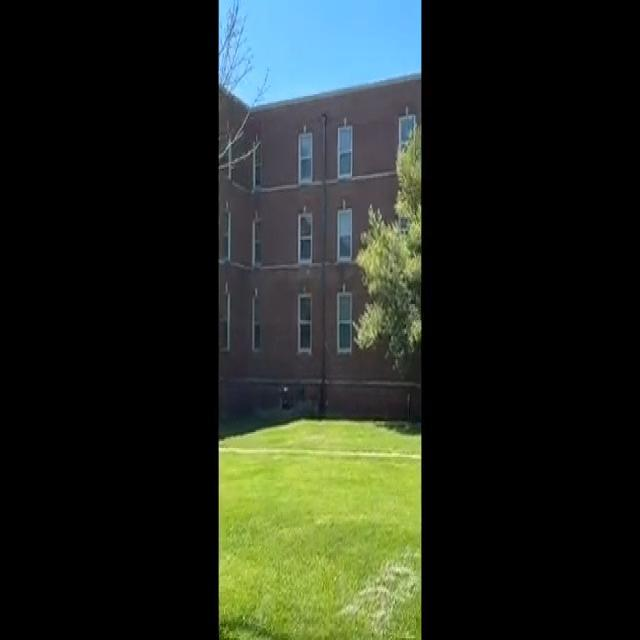drone: (277, 380, 296, 402)
